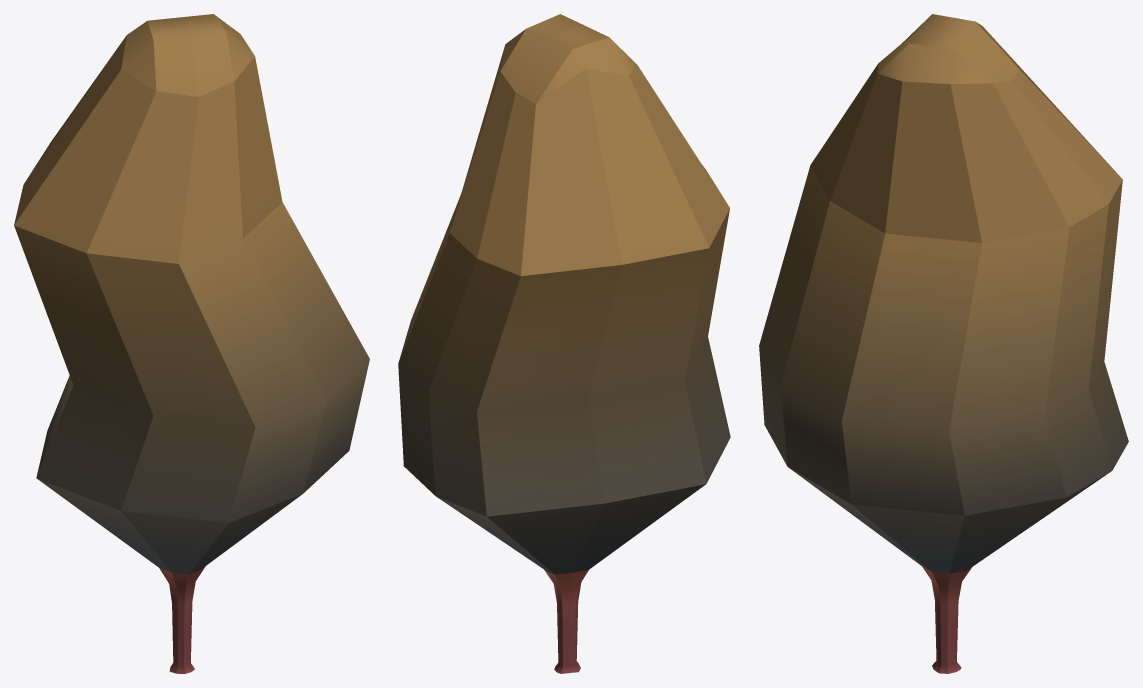
The model's file is SpruceDgreen.fbx.
The picture shows the model from 3 angles, left to right: view 1: azimuth 30°, elevation 25°; view 2: azimuth 150°, elevation 25°; view 3: azimuth 270°, elevation 25°; orthographic projection.
Parts seen in each view (by area): view 1: Spruce_Dgreen; view 2: Spruce_Dgreen; view 3: Spruce_Dgreen.
Part boxes in pixels (box(x1,y1,x2,y2)): Spruce_Dgreen: box(14, 14, 369, 673); Spruce_Dgreen: box(398, 14, 730, 673); Spruce_Dgreen: box(759, 14, 1128, 673).
Bounding box in the file's own units: 18.2 × 35.73 × 18.78.
